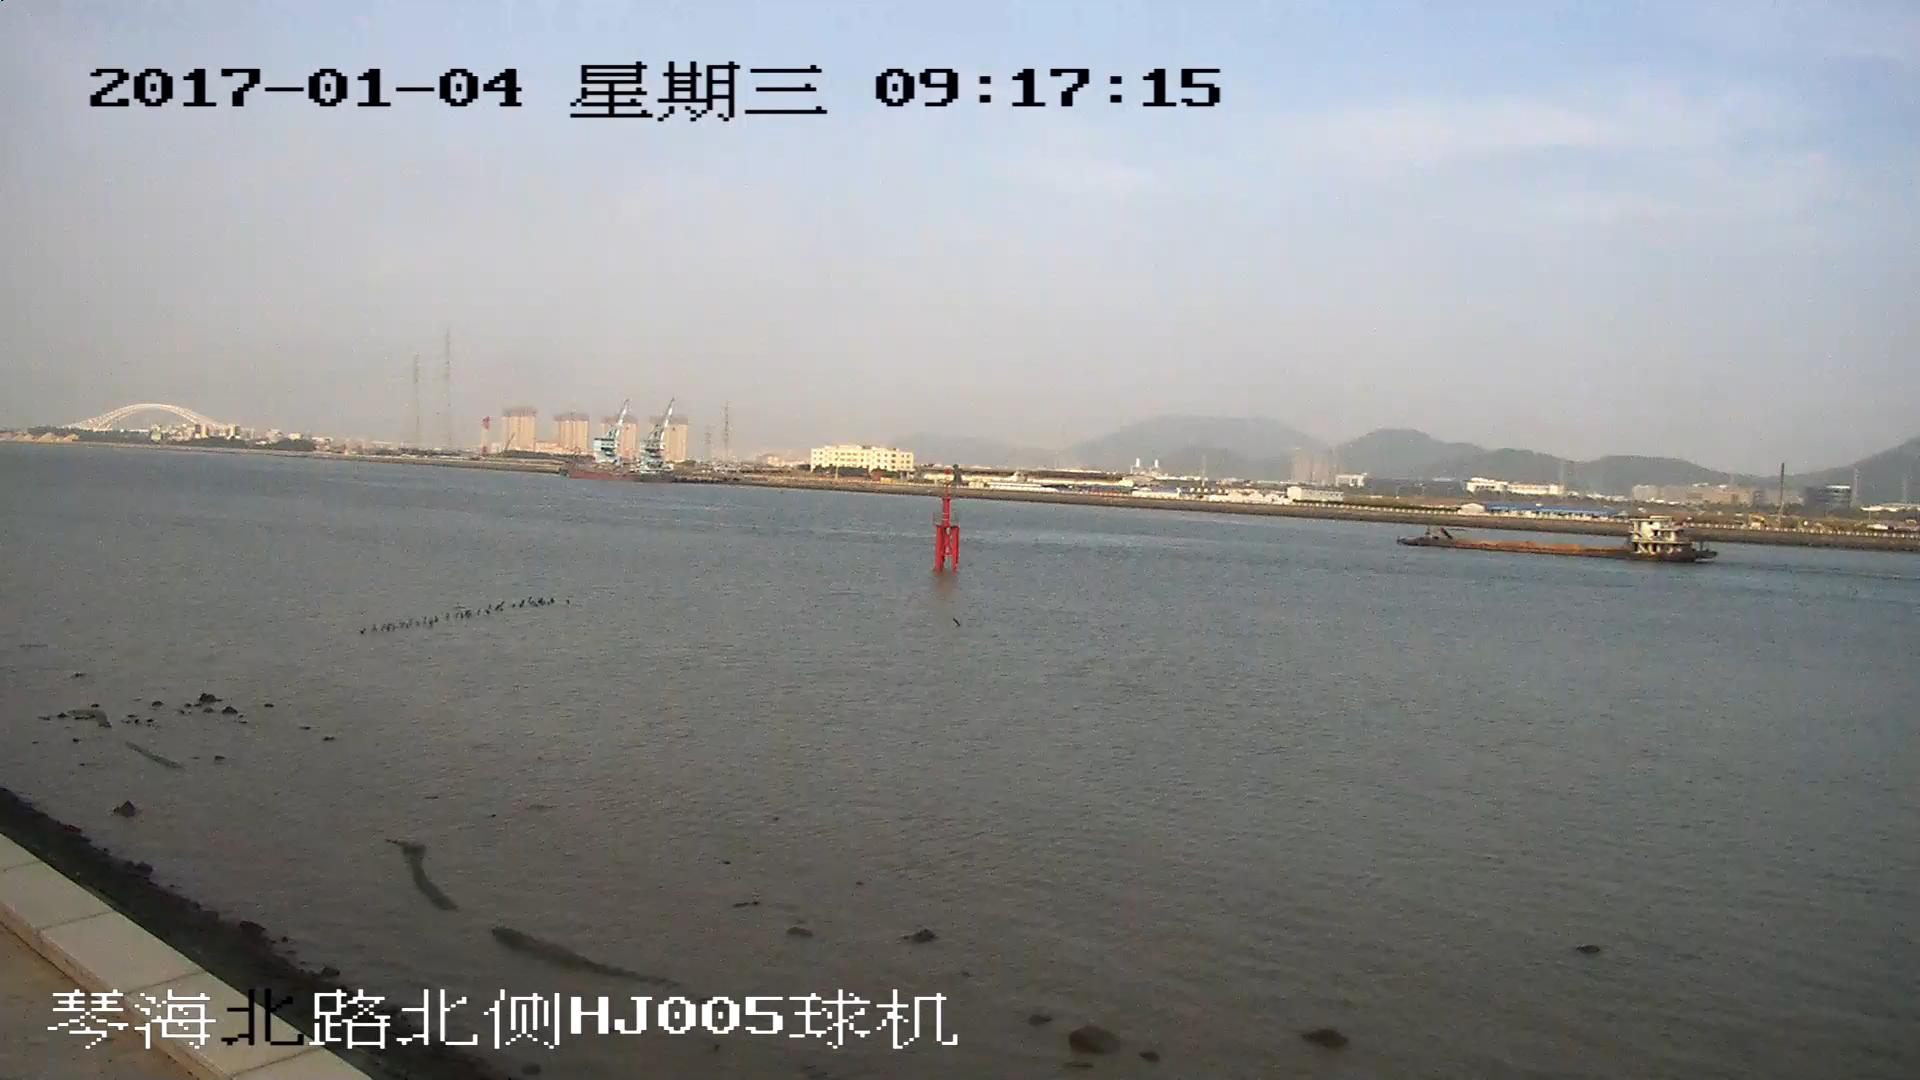ore carrier: (1395, 517, 1714, 563)
